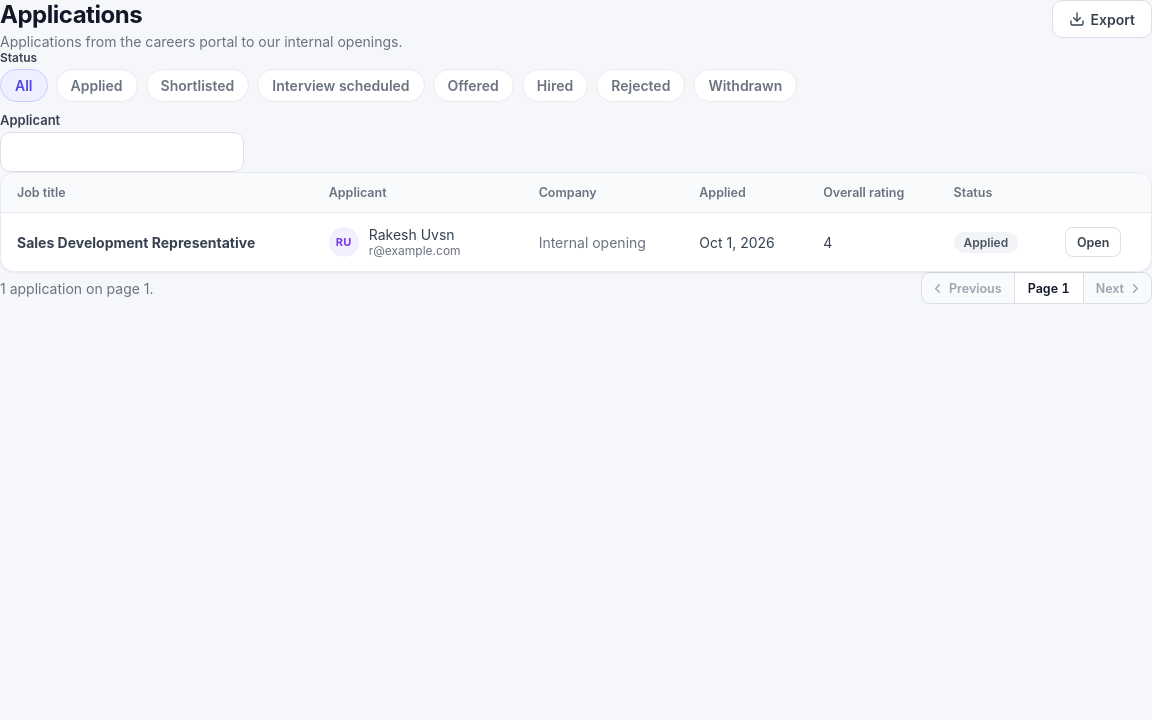
Test: Applications (staff) › explains a stale status change
Click the button with aria-label "Open application of Rakesh Uvsn": [1093, 242] box [1065,227,1121,257]
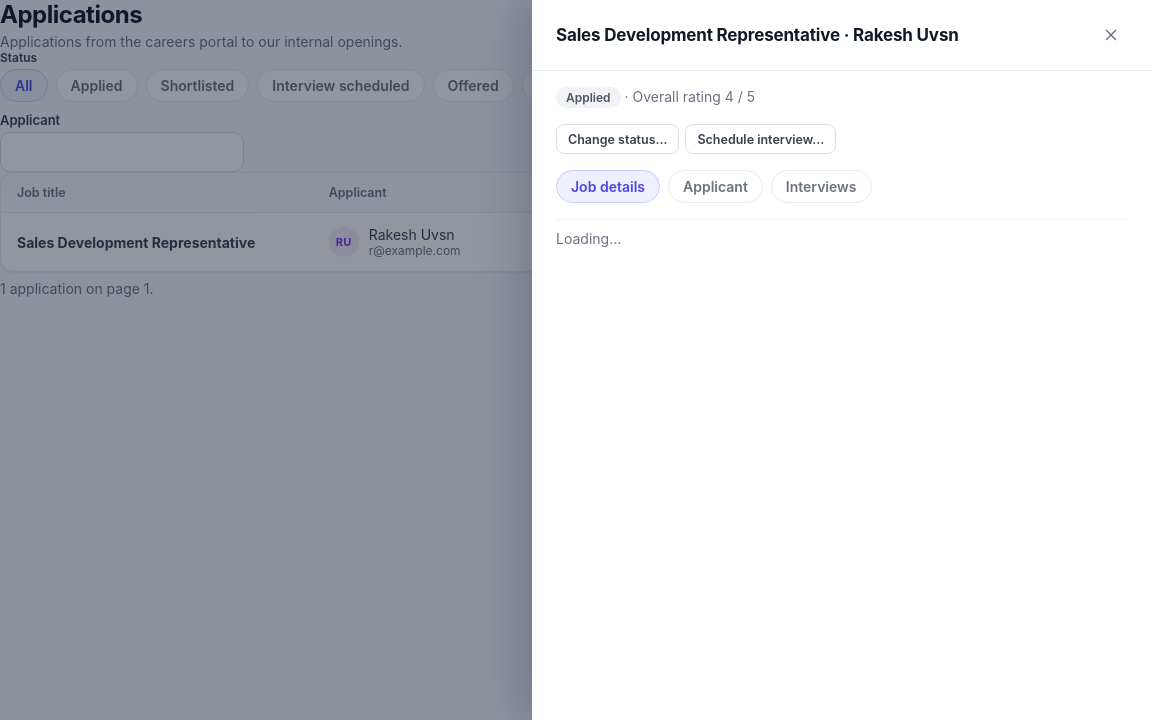
Click the button "Change status…": [618, 139] box [556,124,680,154]
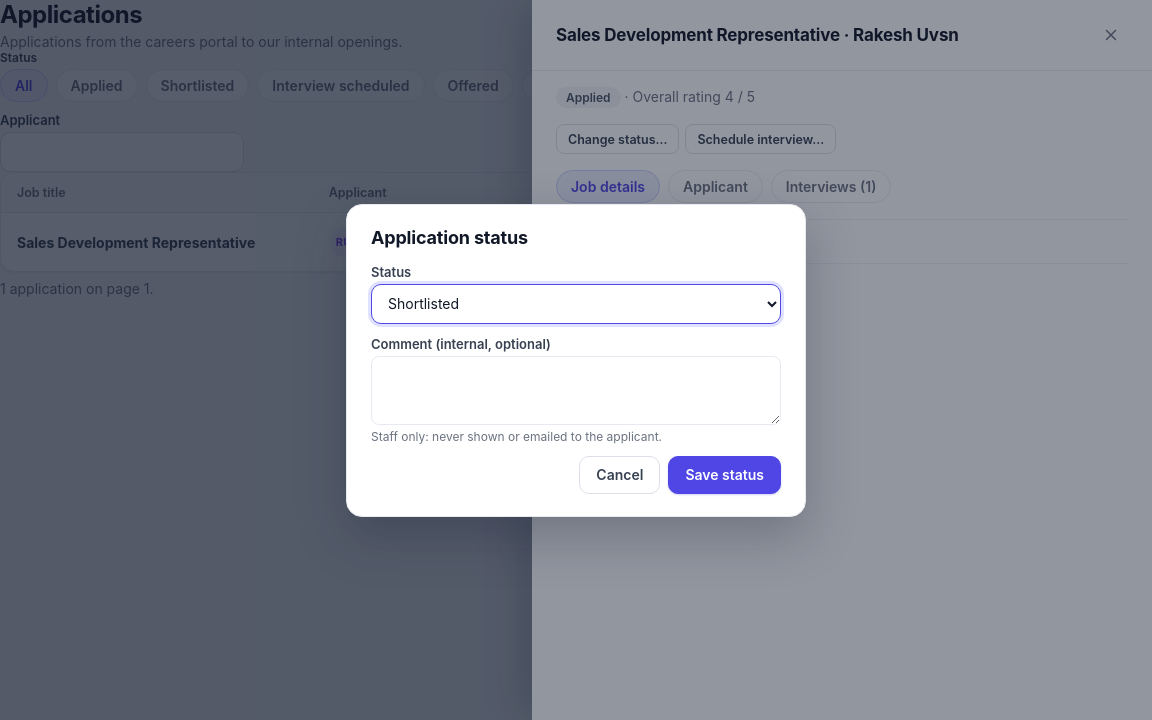
Click the button "Save status": [725, 474] box [668,456,781,494]
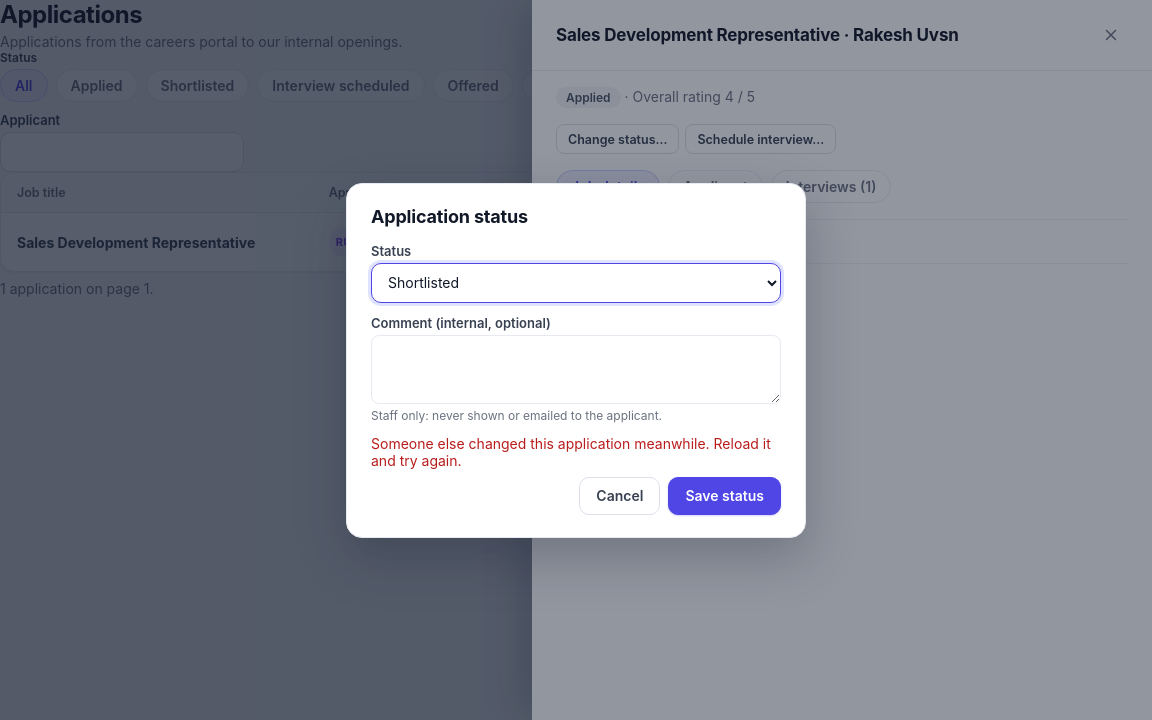
Expected: the message shows "Someone else changed", [371,434,771,468]
